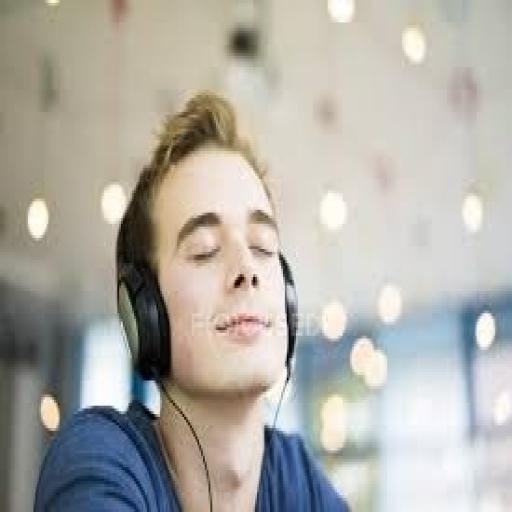listening_to_music: (32, 90, 354, 509)
